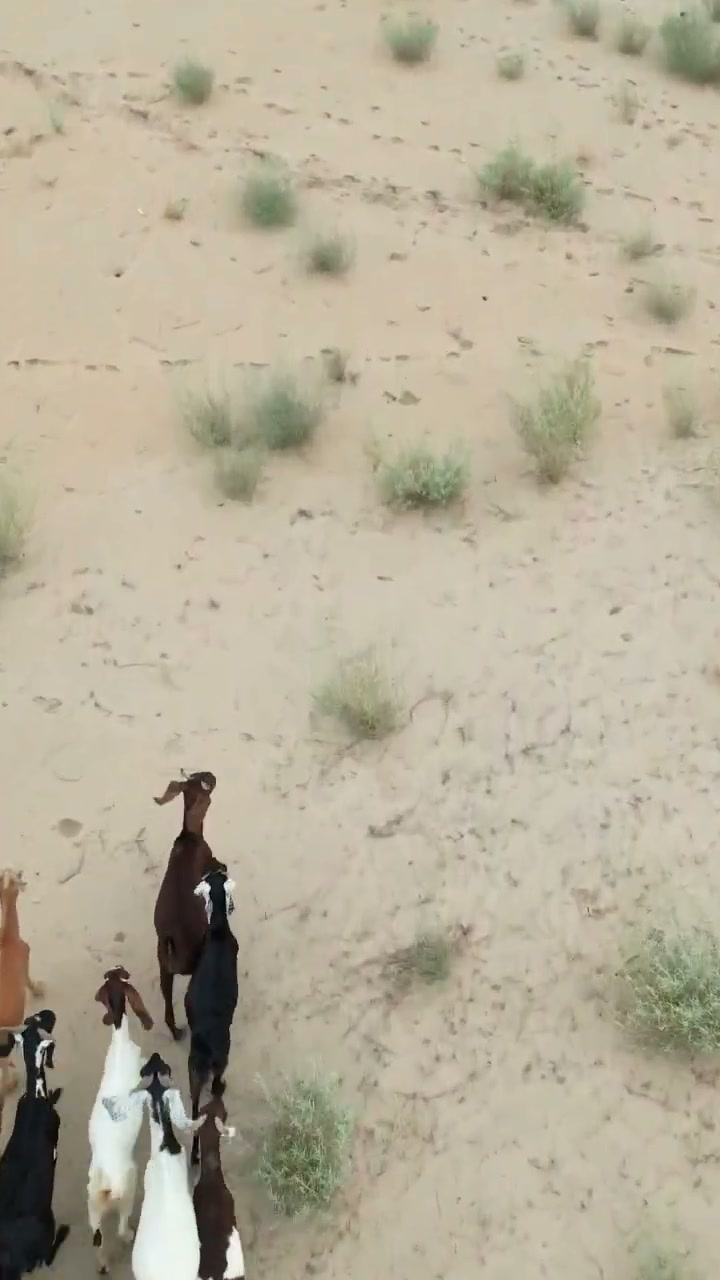animal_foot_print: (233, 937, 345, 1277), (57, 910, 139, 1037)
